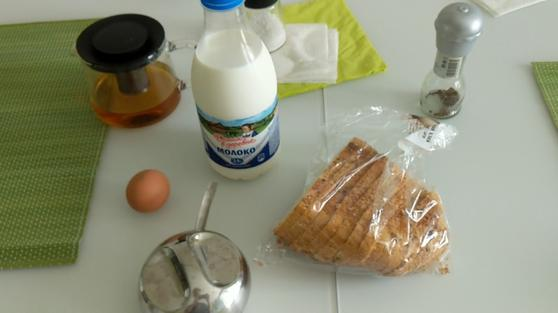egg: (125, 165, 172, 210)
milk: (186, 1, 285, 180)
white_bread: (274, 138, 453, 276)
